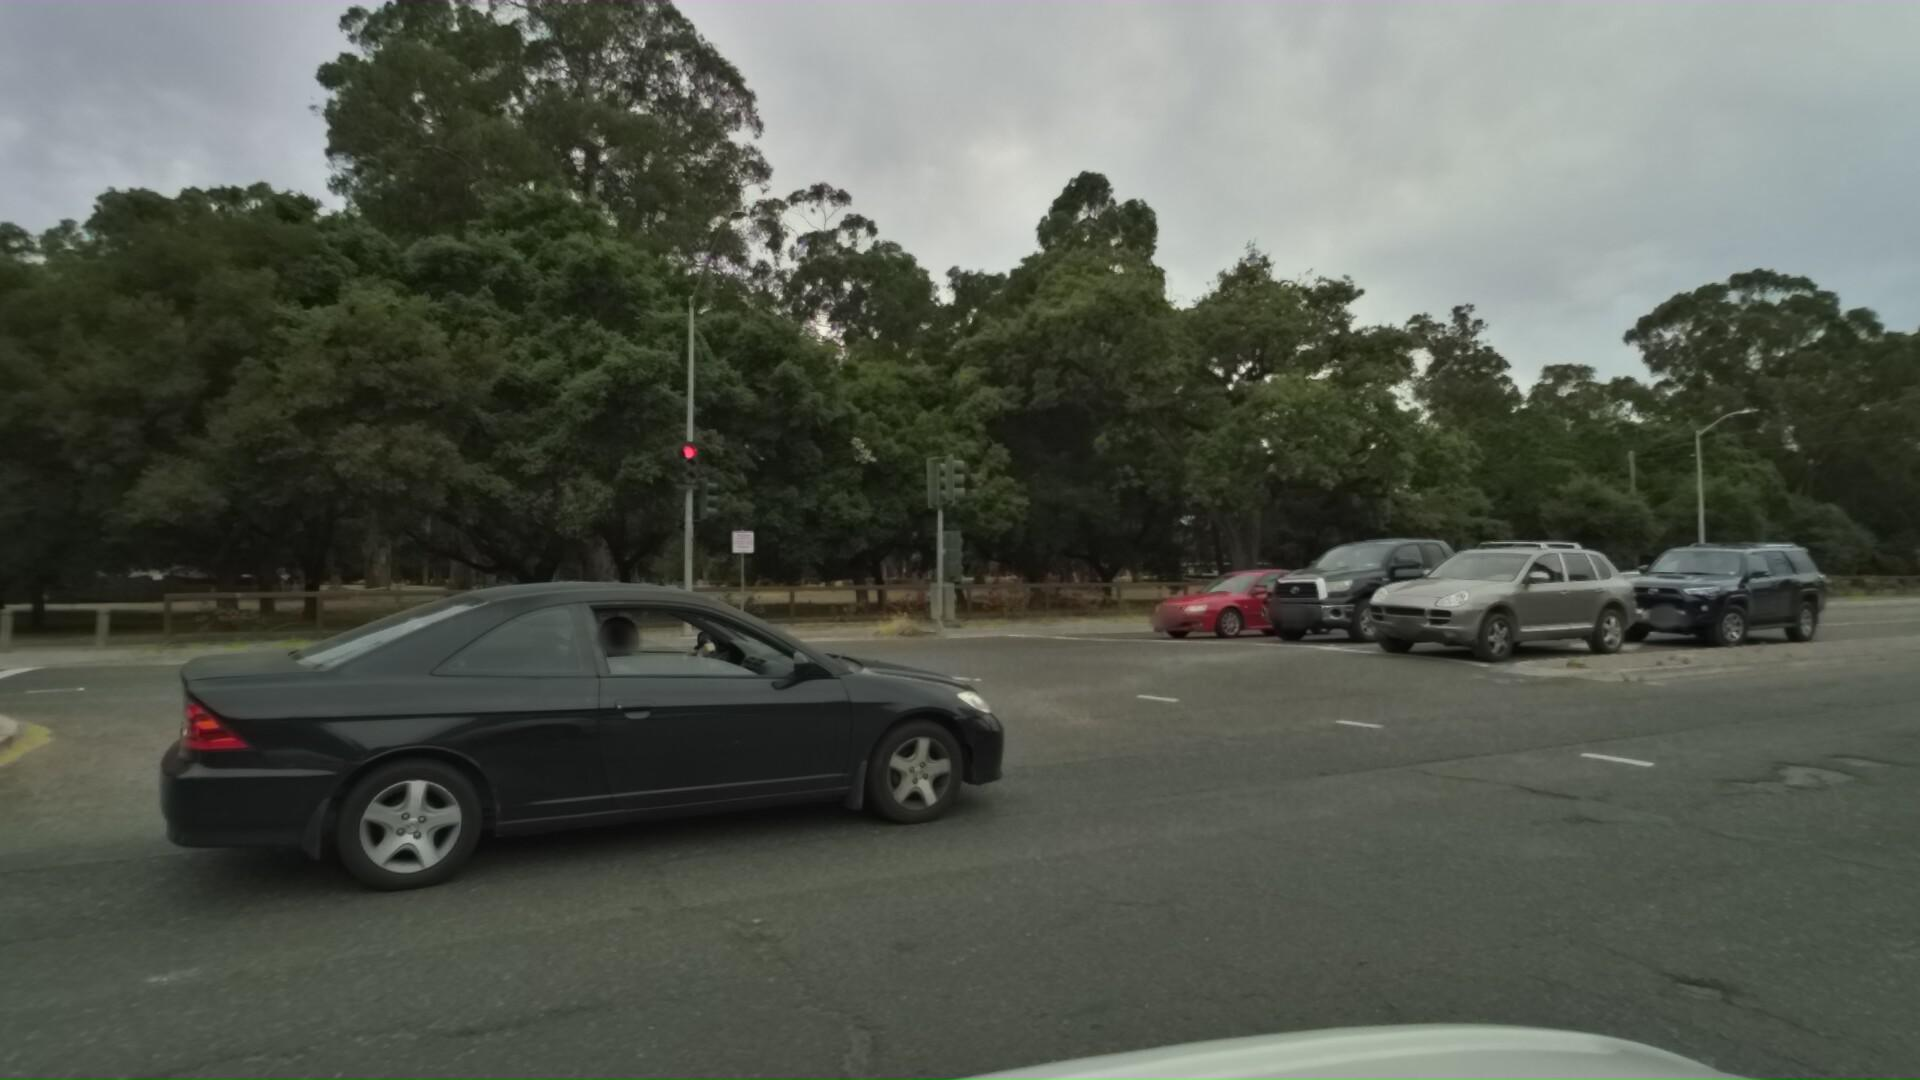car: (91, 560, 1039, 961), (1317, 527, 1635, 667), (1218, 524, 1524, 644), (1567, 526, 1825, 649), (1109, 555, 1342, 645), (1580, 547, 1784, 626), (1364, 570, 1549, 632), (1659, 550, 1817, 615), (1551, 558, 1710, 620)
